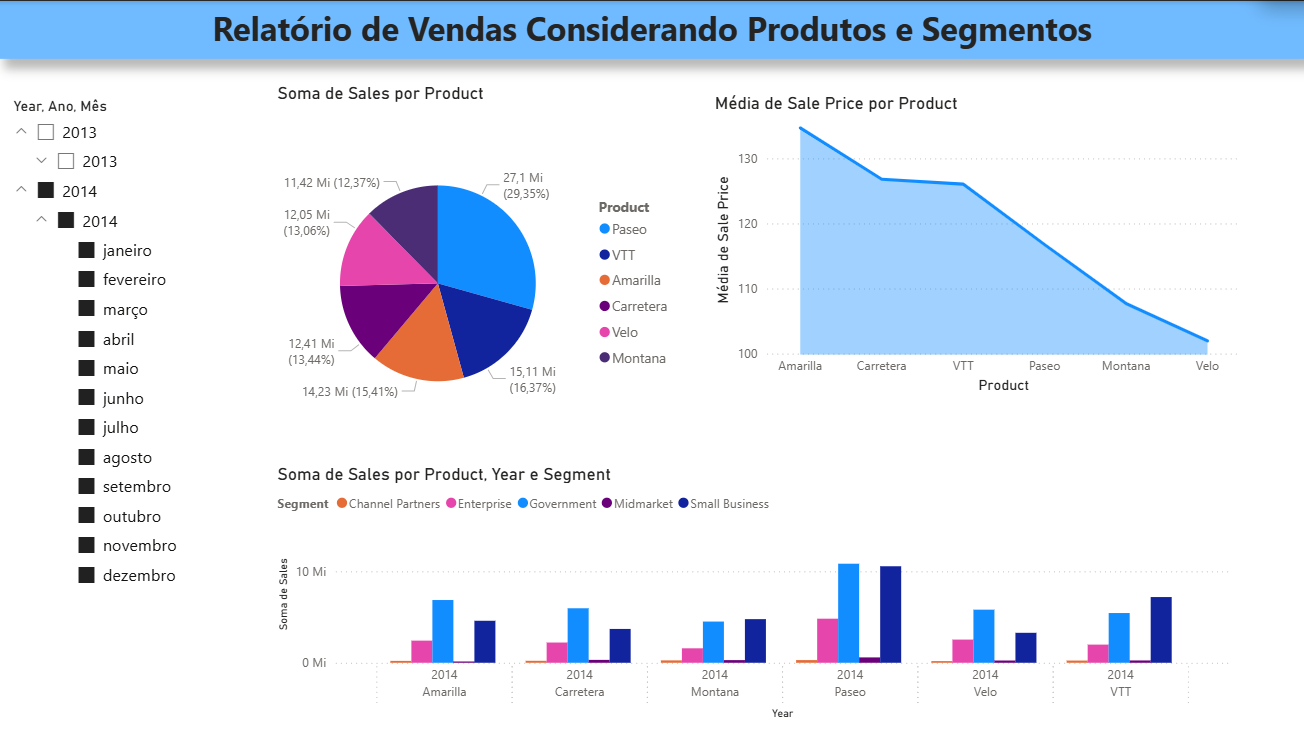

What the dashboard file says about the page in this screenshot:
{"tool":"powerbi","page":{"name":"Página 1","canvas":[1280,720],"ordinal":0},"visuals":[{"type":"pieChart","fields":{"Category":["financials.Product"],"Y":["Sum(financials.Sales)"]},"box":[267.6,79.6,402.1,376],"z":0},{"type":"areaChart","fields":{"Category":["financials.Product"],"Y":["Avg(financials.Sale Price)"]},"box":[697.1,89.2,525.6,300.5],"z":1000},{"type":"clusteredColumnChart","fields":{"Y":["Sum(financials.Sales)"],"Series":["financials.Segment"],"Category":["financials.Product","financials.Year"]},"box":[267.6,454.2,944.1,256.6],"z":2000},{"type":"slicer","fields":{"Values":["financials.Year","financials.Date.Variation.Hierarquia de datas.Ano","financials.Date.Variation.Hierarquia de datas.Mês"]},"box":[0,89.2,258,621.6],"z":3000},{"type":"textbox","box":[0,0,1280.3,56.6],"z":4000}]}

Visuals, with their boxes on the page's 1280x720 design canvas (x1, y1, x2, y2). These are canvas units, not pixel positions in the 1304x734 screenshot, which may show the page scaled, cropped or inside an application window:
pieChart - financials.Product x Sum(financials.Sales): box(268, 80, 670, 456)
areaChart - financials.Product x Avg(financials.Sale Price): box(697, 89, 1223, 390)
clusteredColumnChart - Sum(financials.Sales) x financials.Segment: box(268, 454, 1212, 711)
slicer - financials.Year x financials.Date.Variation.Hierarquia de datas.Ano: box(0, 89, 258, 711)
textbox: box(0, 0, 1280, 57)
